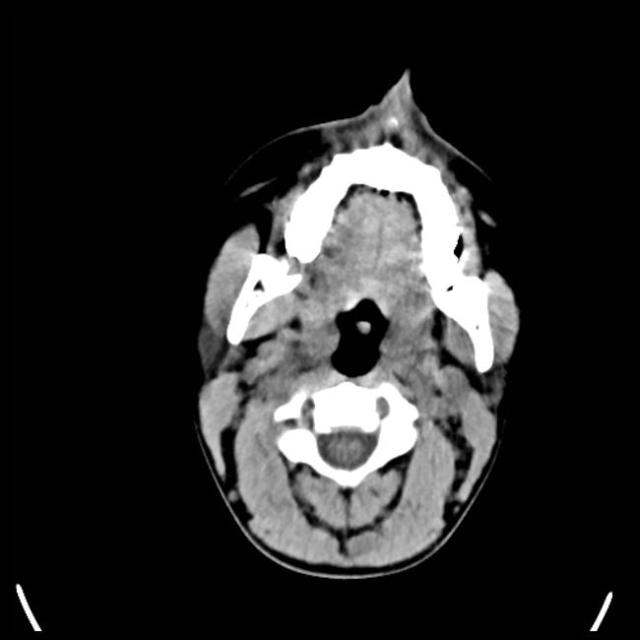lesion: (188, 67, 526, 581)
